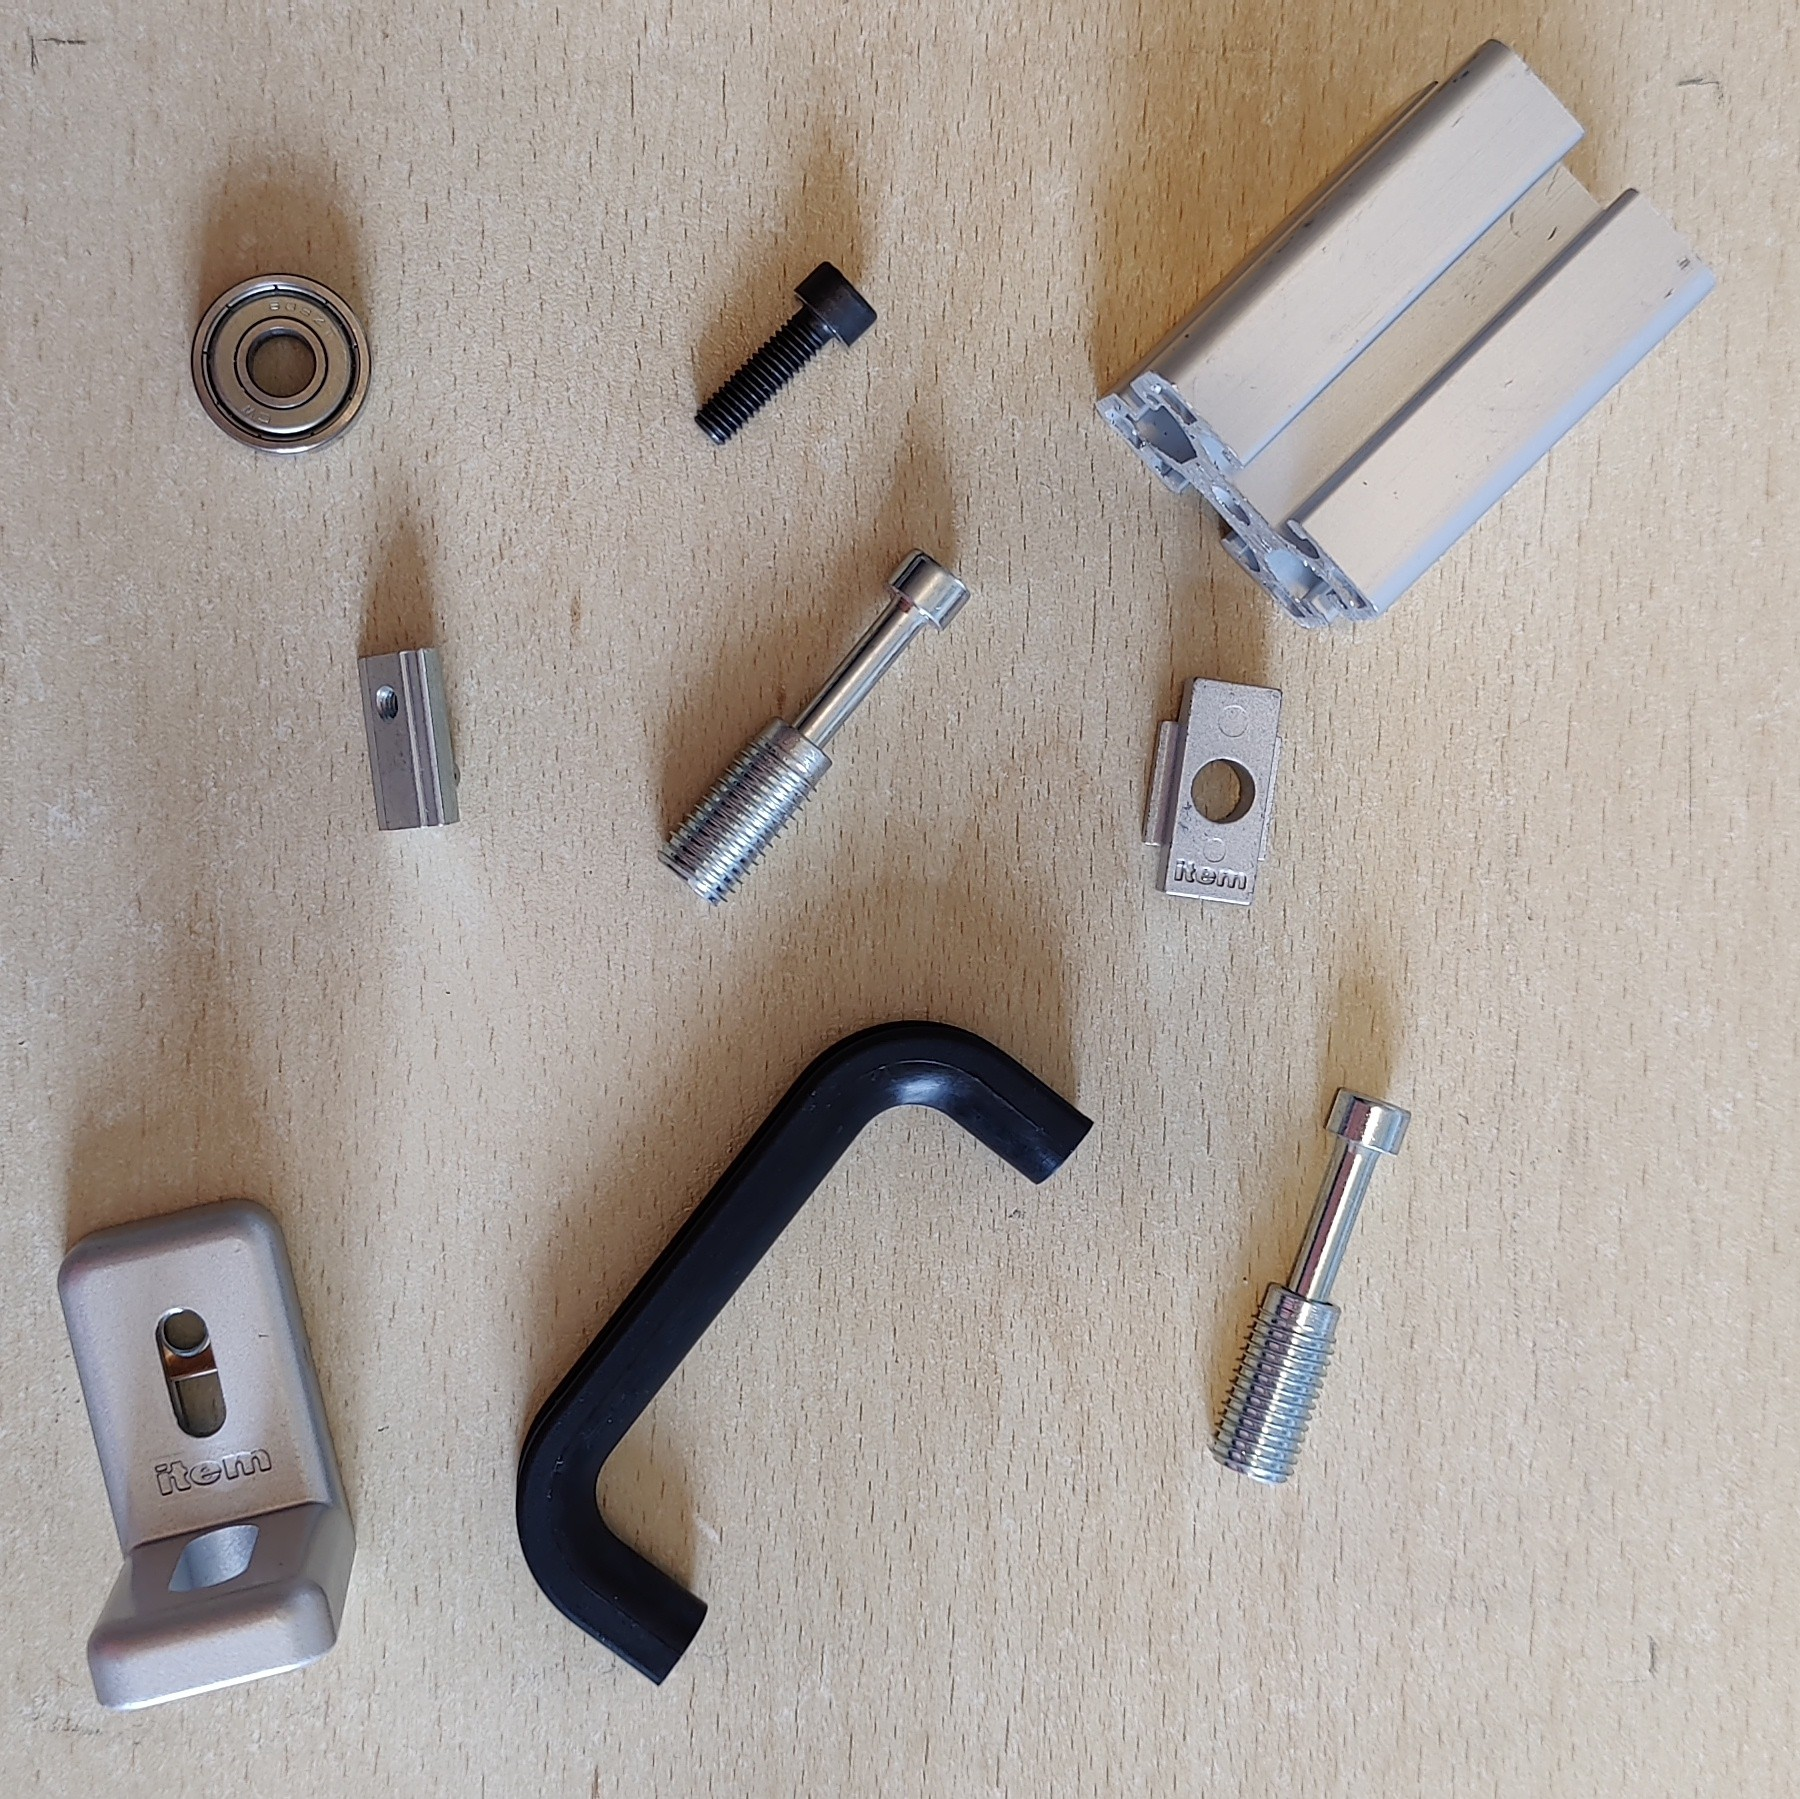Aluminium Extension: (1092, 33, 1718, 636)
Ball Bearing: (188, 267, 374, 460)
Multiwinkel: (56, 1196, 361, 1717)
Pull Handle: (514, 1013, 1097, 1689)
Shoulder Socket Head Cap Screw: (655, 547, 977, 909), (1207, 1081, 1411, 1489)
Socket Head Cap Screw: (688, 260, 879, 455)
T Nut Square: (1138, 674, 1286, 911)
T Spring Nut: (354, 644, 464, 834)
